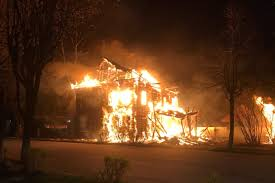fire: (74, 56, 205, 148)
